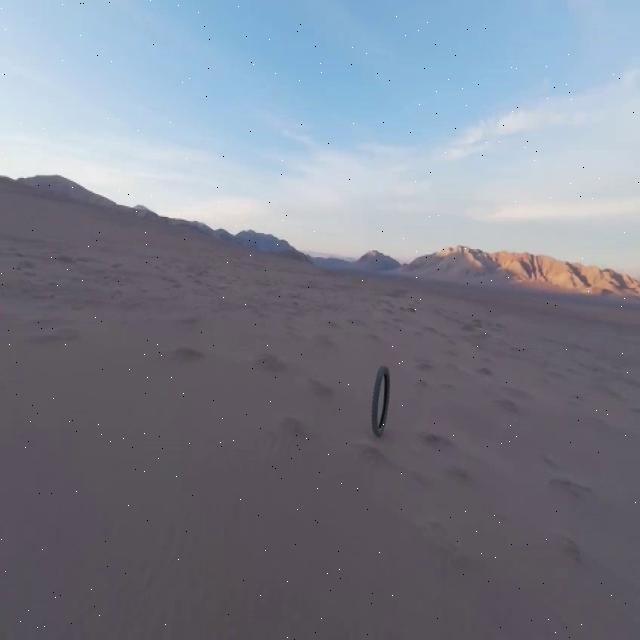Tire: (372, 366, 389, 435)
